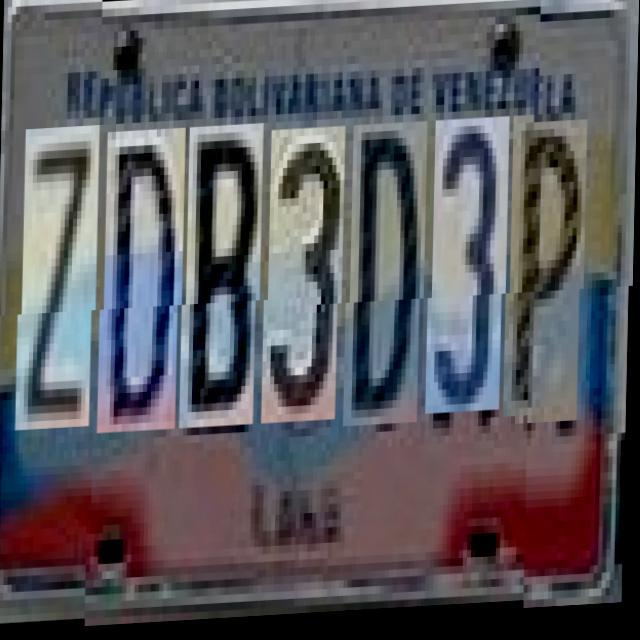3: (432, 123, 511, 419), (268, 130, 346, 427)
B: (185, 127, 264, 430)
D: (103, 130, 186, 434), (349, 127, 428, 430)
P: (509, 119, 588, 423)
Z: (21, 134, 100, 438)
